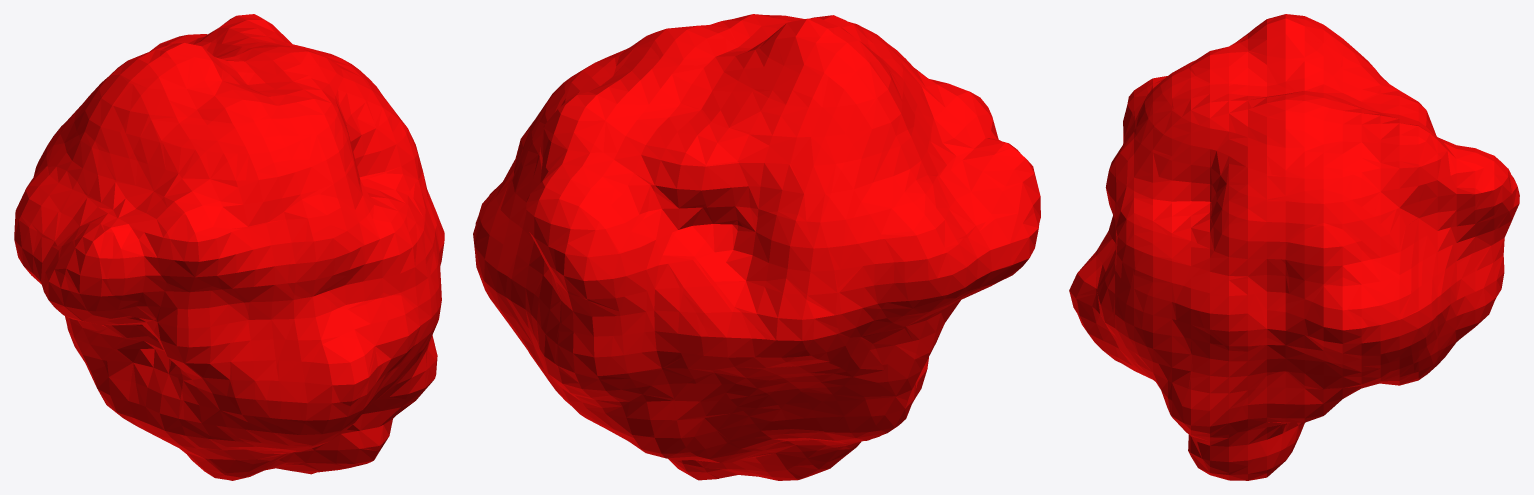
Rendered from ridA_coarse.dae.
3 views of the same model, side by side, from view 1: azimuth 30°, elevation 25°; view 2: azimuth 150°, elevation 25°; view 3: azimuth 270°, elevation 25° (orthographic). The views are drawn at different scales.
Parts seen in each view (by area): view 1: ridA; view 2: ridA; view 3: ridA.
Part boxes in pixels (x1,y1,x2,y2): ridA: (14,14,444,480); ridA: (473,14,1040,480); ridA: (1069,14,1519,480).
Size of the model in its own units: 58.79 by 58.79 by 58.79.
